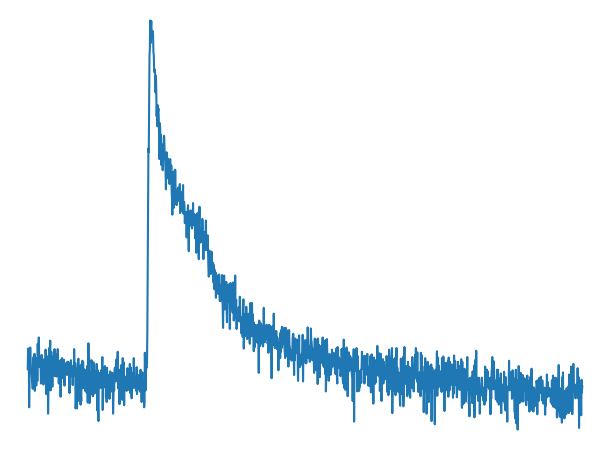increase: (116, 334, 163, 415)
